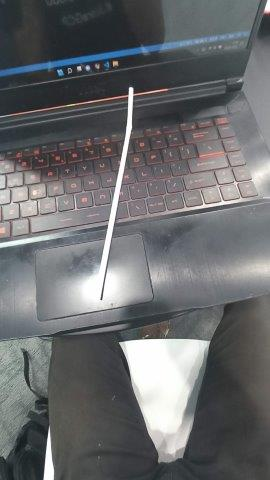sedotan: (94, 88, 134, 300)
